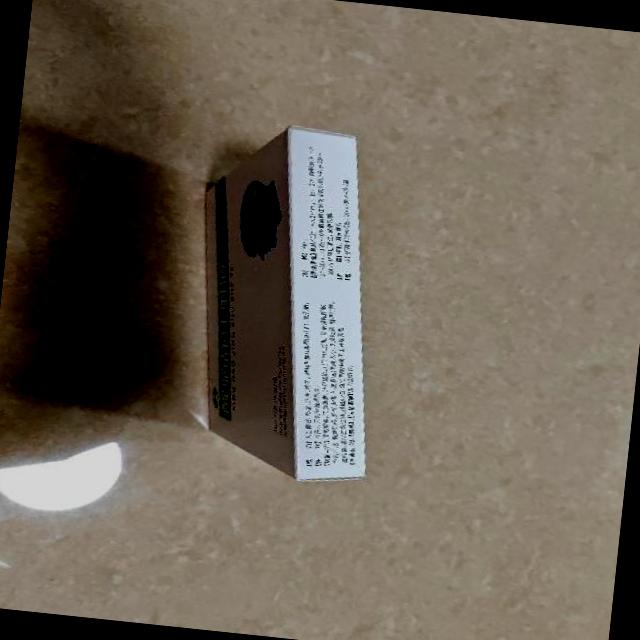box: (173, 118, 401, 489)
